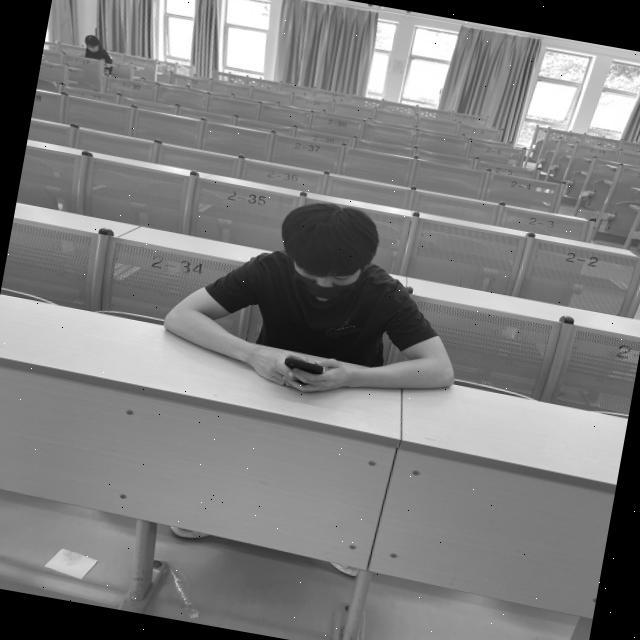phone: (158, 178, 477, 415)
study: (76, 32, 113, 61)
